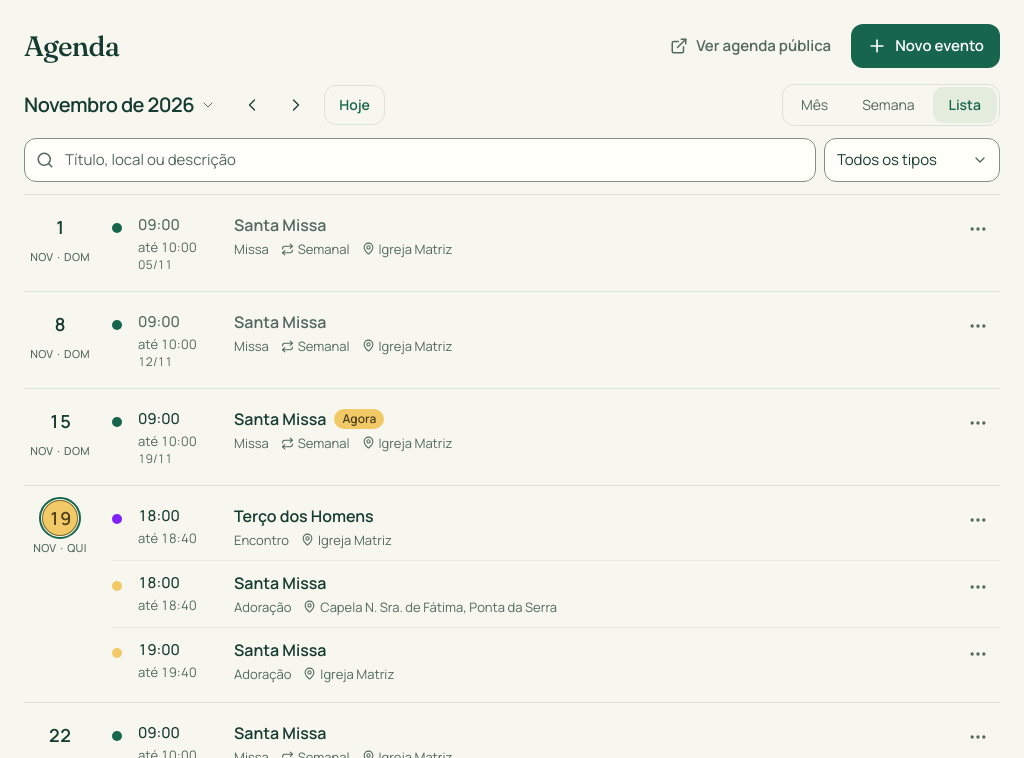
Test: AdminCalendarPage › permite iniciar uma cópia a partir da lista administrativa
The image size is (1024, 758).
Click the button named "Mais ações: Terço dos Homens" at (978, 520), box [956,498,1000,542]
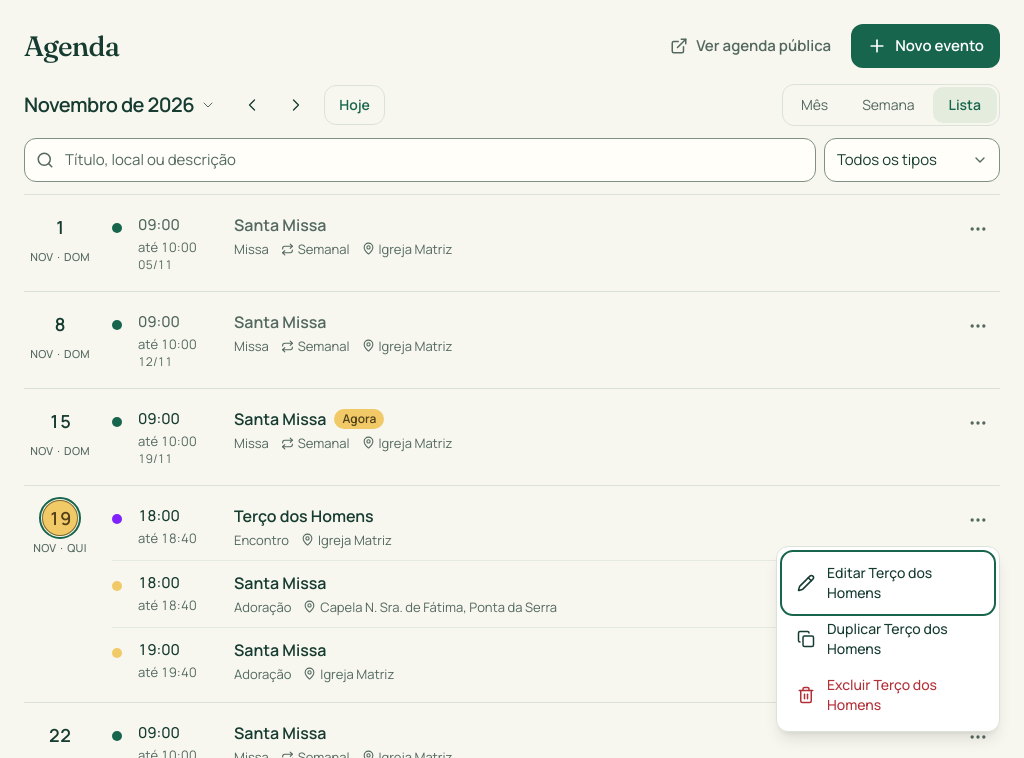
Click the menu item "Duplicar Terço dos Homens" at (888, 639), box [785,611,991,667]
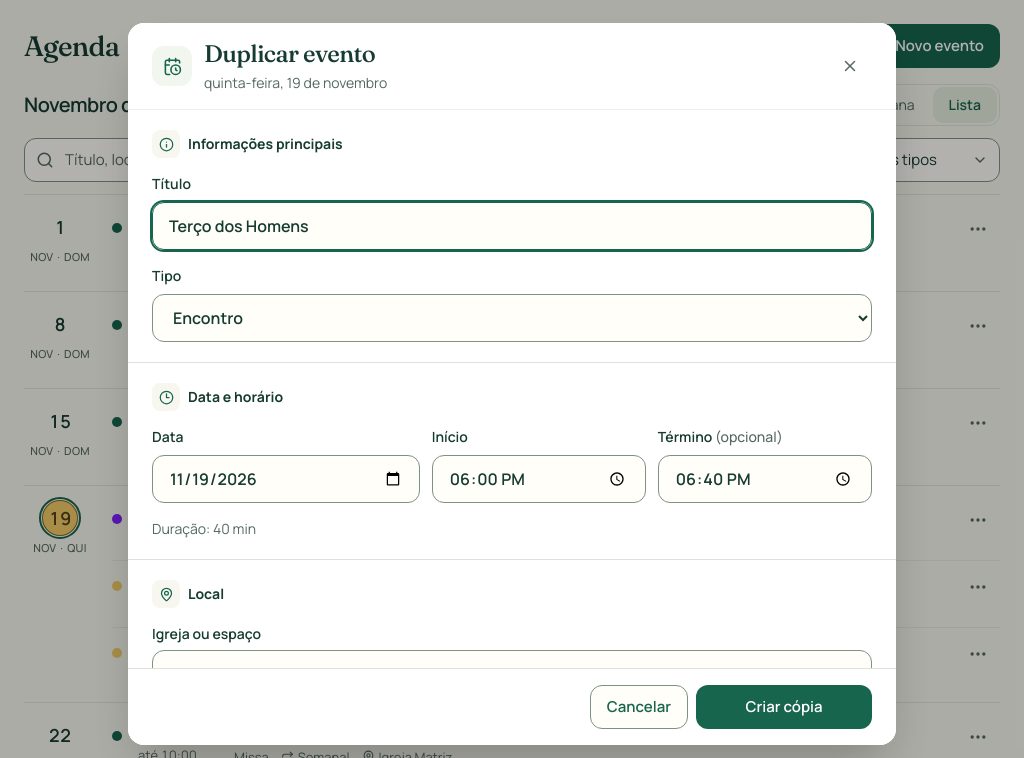
Check: the heading "Duplicar evento" is shown, box [204,39,387,69]
Check: the field labelled "Título" holds "Terço dos Homens", box [152,202,872,250]
Check: the button "Criar cópia" is shown, box [696,685,872,729]
